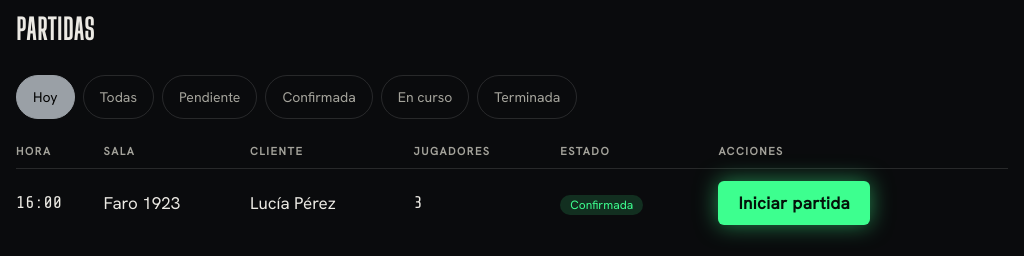
Test: StaffPlanningPage › a status chip lists the bookings with that status whatever the date
Check: the text "Lucía Pérez" is shown, box [250,169,414,237]
Click the button "Pendiente" at [210, 97], box [162,75,257,119]
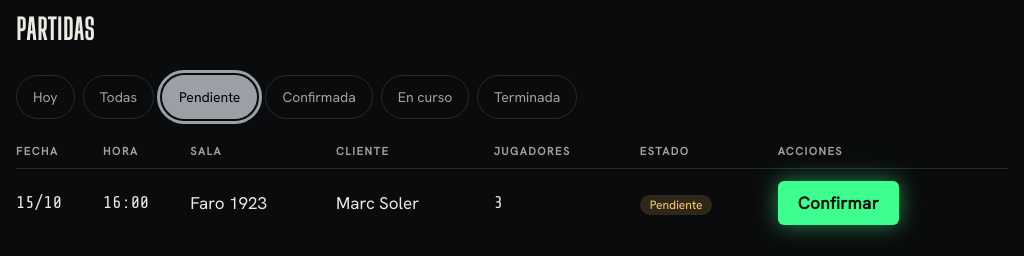
Check: the text "Marc Soler" is shown, box [336,169,494,237]
Click the button "Hoy" at [45, 97], box [16,75,75,119]
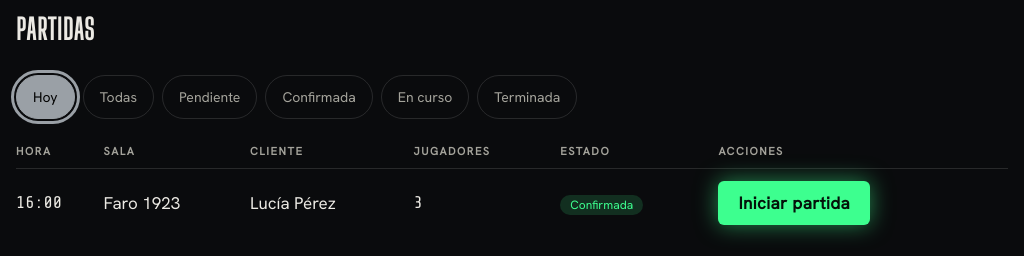
Check: the text "Lucía Pérez" is shown, box [250,169,414,237]
